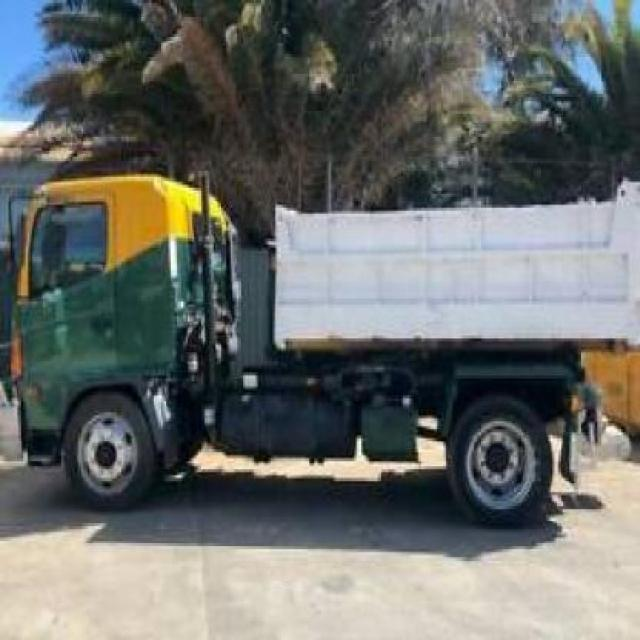Dump Truck: (8, 162, 638, 528)
